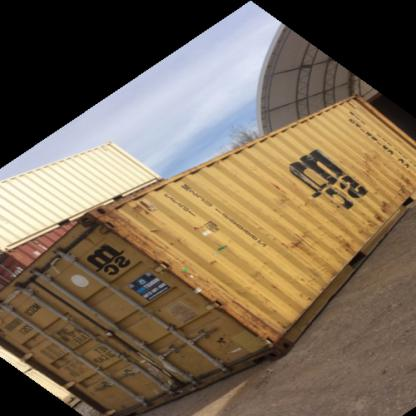Damage: (227, 298, 282, 344), (89, 204, 129, 246), (45, 320, 88, 347), (277, 224, 312, 253), (148, 222, 187, 248), (269, 165, 291, 204), (357, 146, 384, 176), (367, 197, 390, 227), (394, 161, 413, 196), (331, 229, 352, 257), (344, 104, 362, 124), (138, 197, 154, 214)
